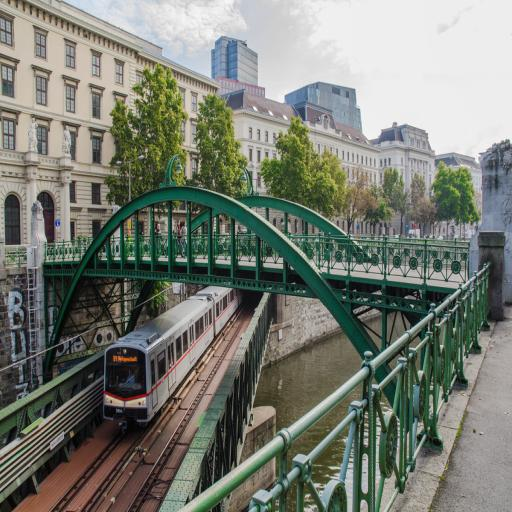V-Wagen: (102, 286, 239, 424)
